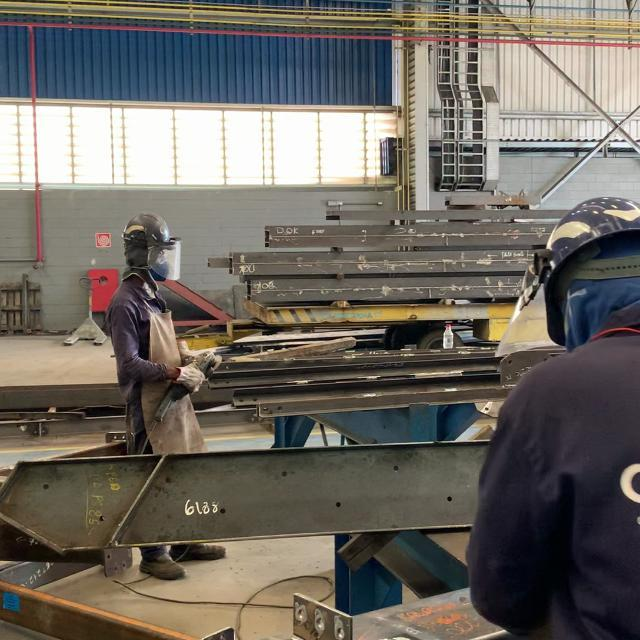eye-glass: (144, 238, 182, 282)
face-shield: (175, 361, 206, 396)
glove: (122, 212, 172, 244)
mask: (104, 210, 229, 442)
safety-shoe: (138, 548, 188, 580), (169, 545, 228, 565)
